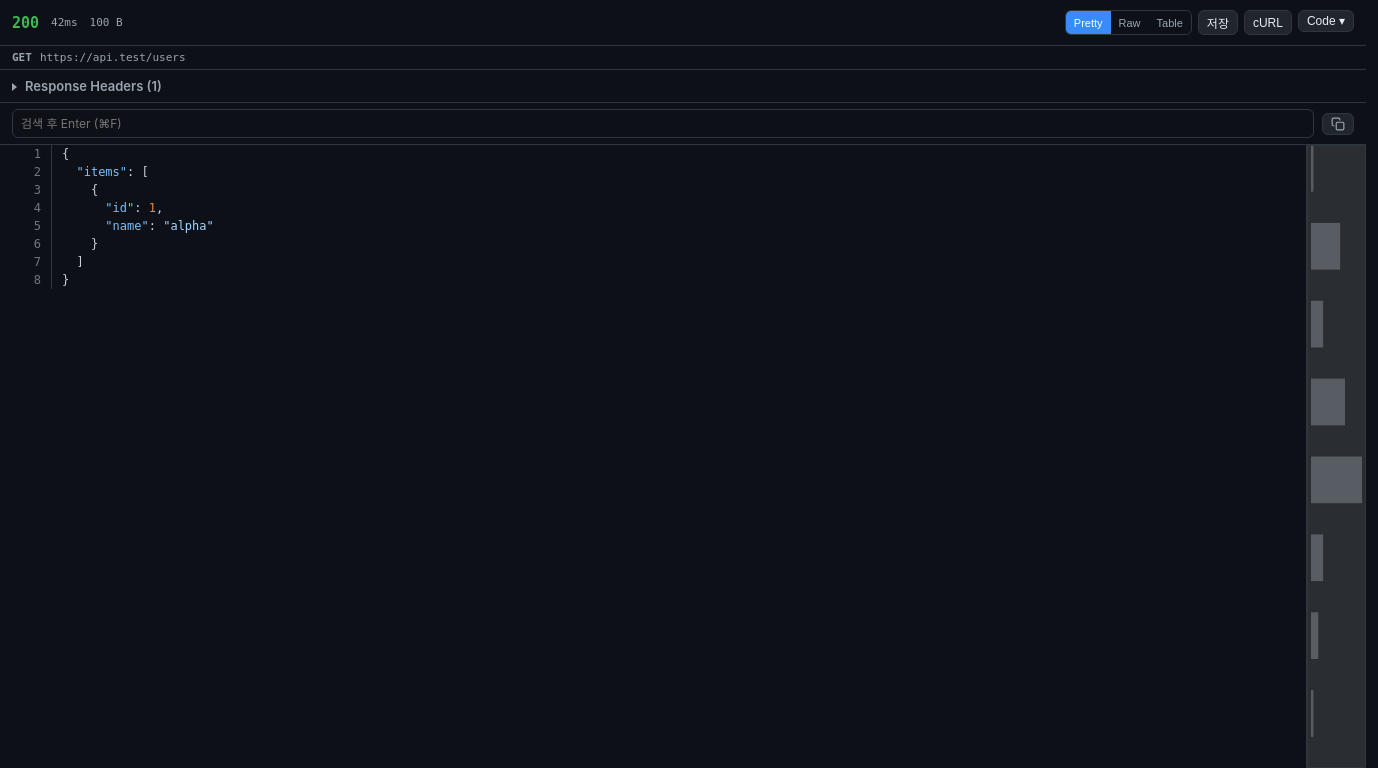
Test case: ResponseView 검색 › 일치 없으면 '일치 없음'
The image size is (1378, 768).
Type "zzzzzz" into the field with placeholder "검색 후 Enter (⌘F)".
click(663, 124); type("zzzzzz")  # box [12,109,1314,138]
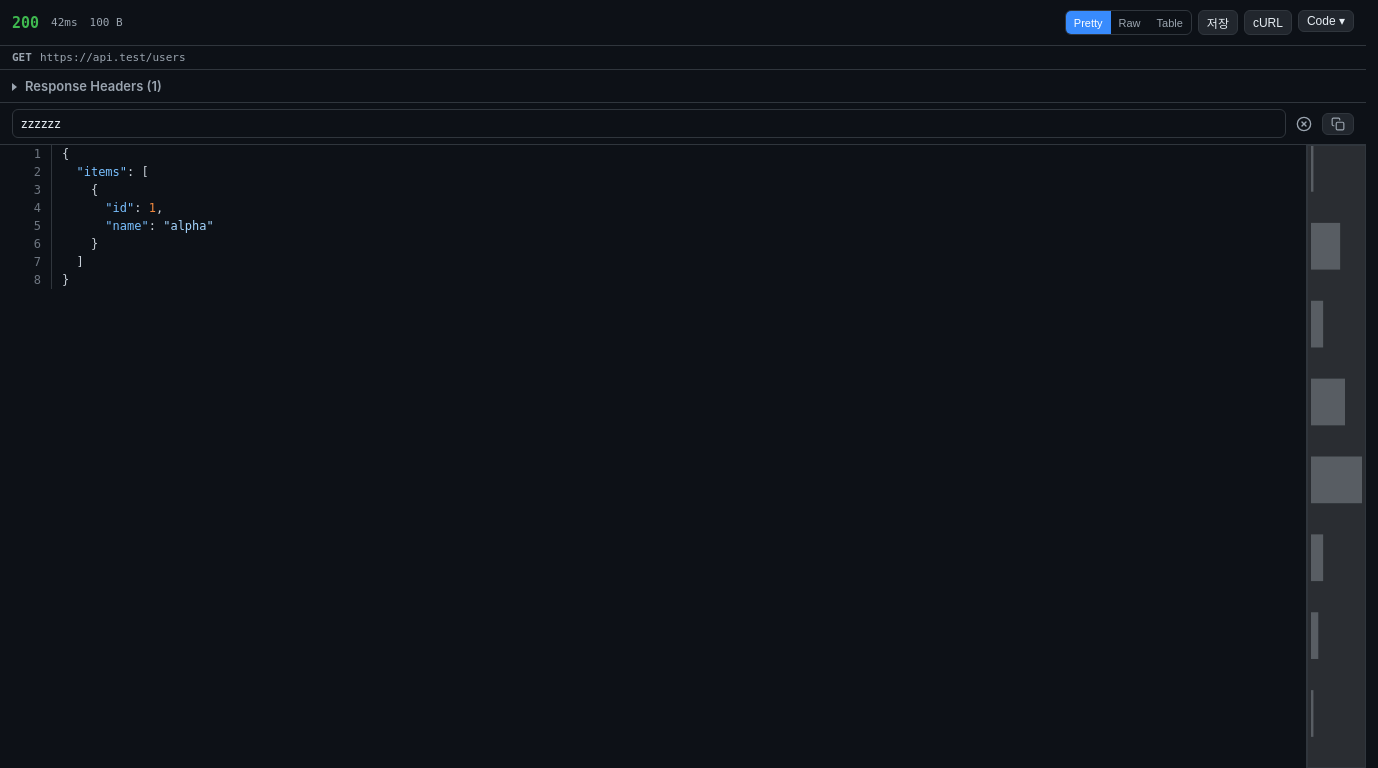
Press Enter in the field with placeholder "검색 후 Enter (⌘F)", box [12,109,1286,138]
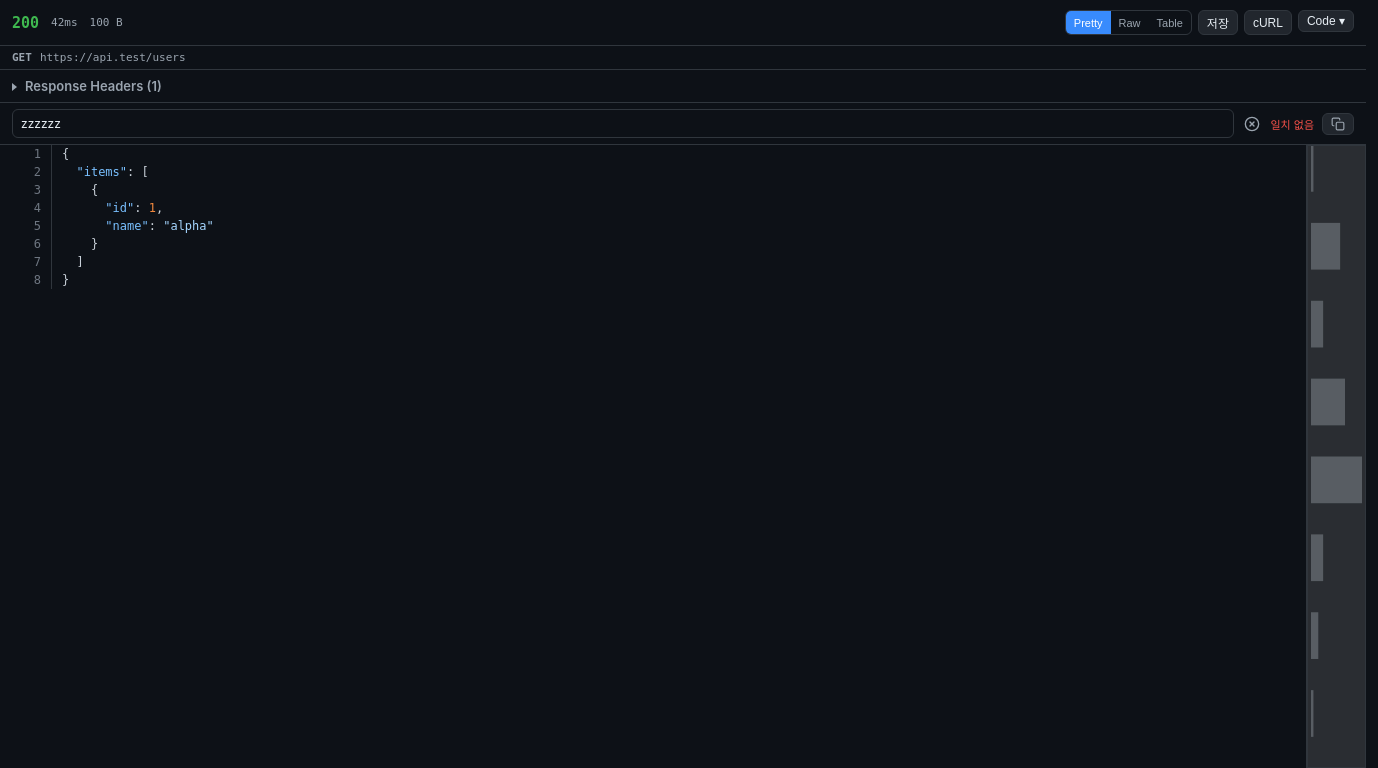
Now the text "일치 없음" is shown, box [1270,116,1314,132]
